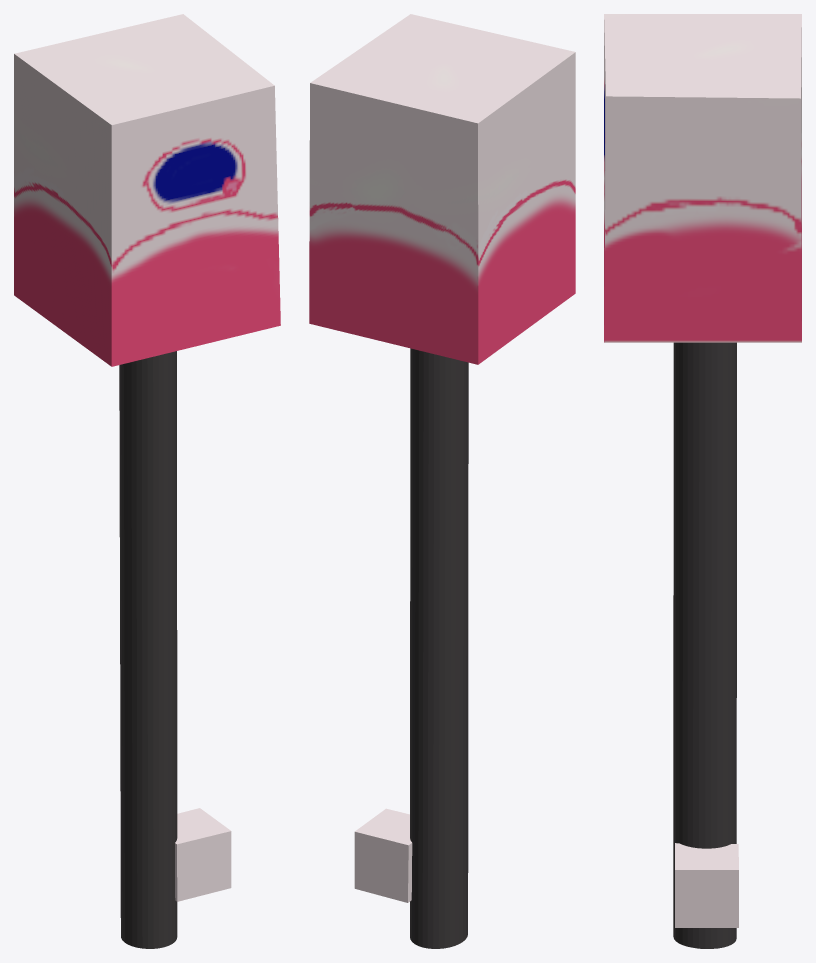
Rendered from sugarkey.fbx.
The picture shows the model from 3 angles, left to right: view 1: azimuth 30°, elevation 25°; view 2: azimuth 150°, elevation 25°; view 3: azimuth 270°, elevation 25°; orthographic projection.
Parts seen in each view (by area): view 1: sugarkey; view 2: sugarkey; view 3: sugarkey.
Part boxes in pixels (x1,y1,x2,y2): sugarkey: (14, 14, 280, 948); sugarkey: (309, 14, 575, 948); sugarkey: (604, 14, 801, 948).
Size of the model in its own units: 143 by 701 by 143.
